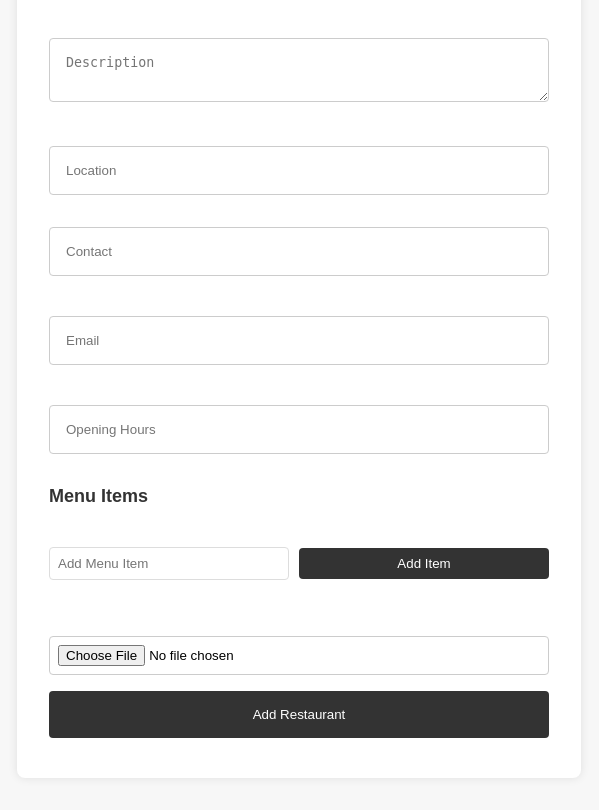
RestaurantForm Component › validates required fields
The width and height of the screenshot is (599, 810).
(page scrolled)
Click the button "Add Restaurant".
click(299, 714)  # box [49,691,549,738]
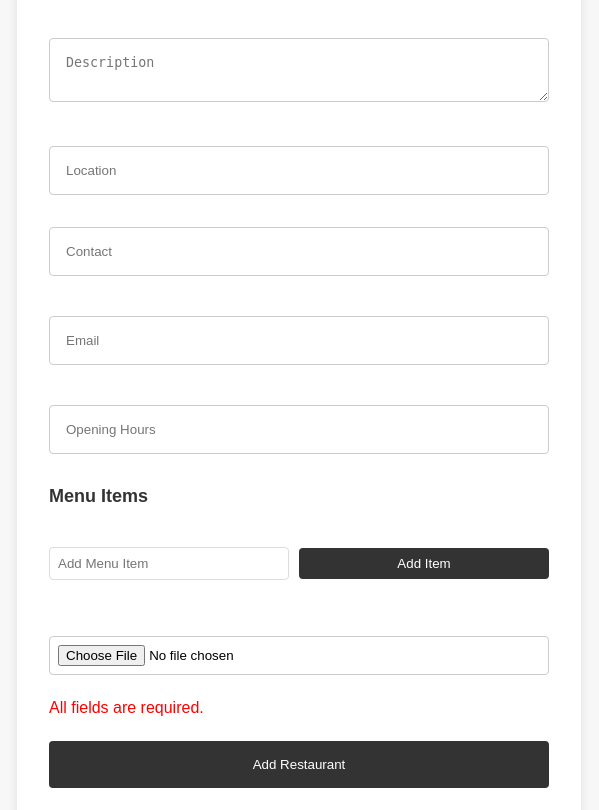
Check: the text "All fields are required." is shown, box [49,699,204,716]
